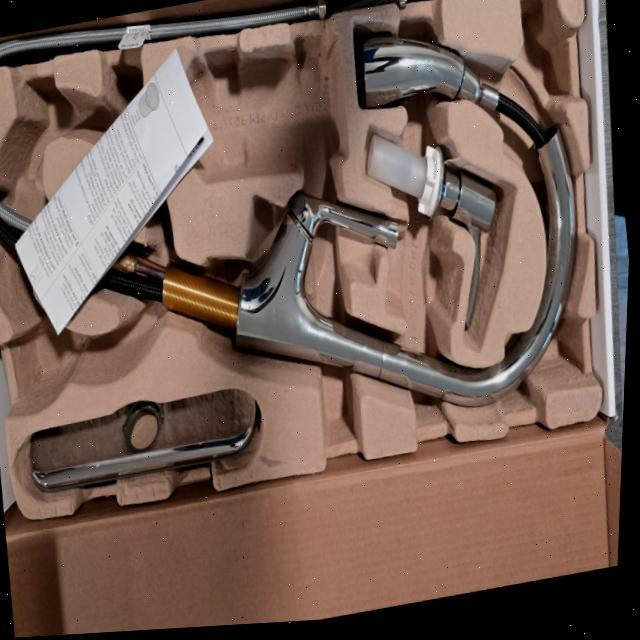1o: (0, 35, 577, 409)
2: (366, 134, 497, 330)
3m: (150, 43, 344, 182)
4: (27, 391, 256, 489)
5m: (23, 321, 83, 411)
6m: (0, 76, 68, 186)
7m: (78, 66, 162, 204)
8: (12, 46, 212, 339)
